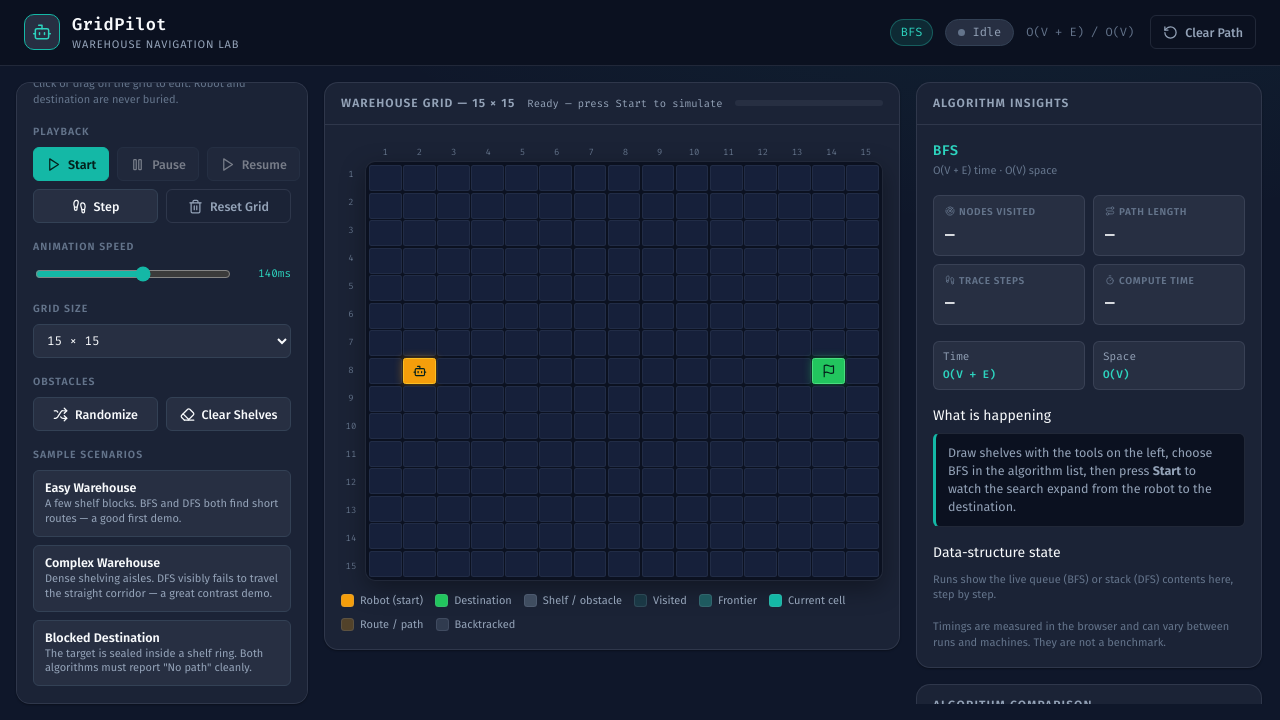
Test case: obstacle generation & lifecycle controls › Blocked Destination produces an explicit No Path result (and never a fake route)
(page scrolled)
Click the button "Blocked Destination": (162, 653) [33, 620, 291, 686]
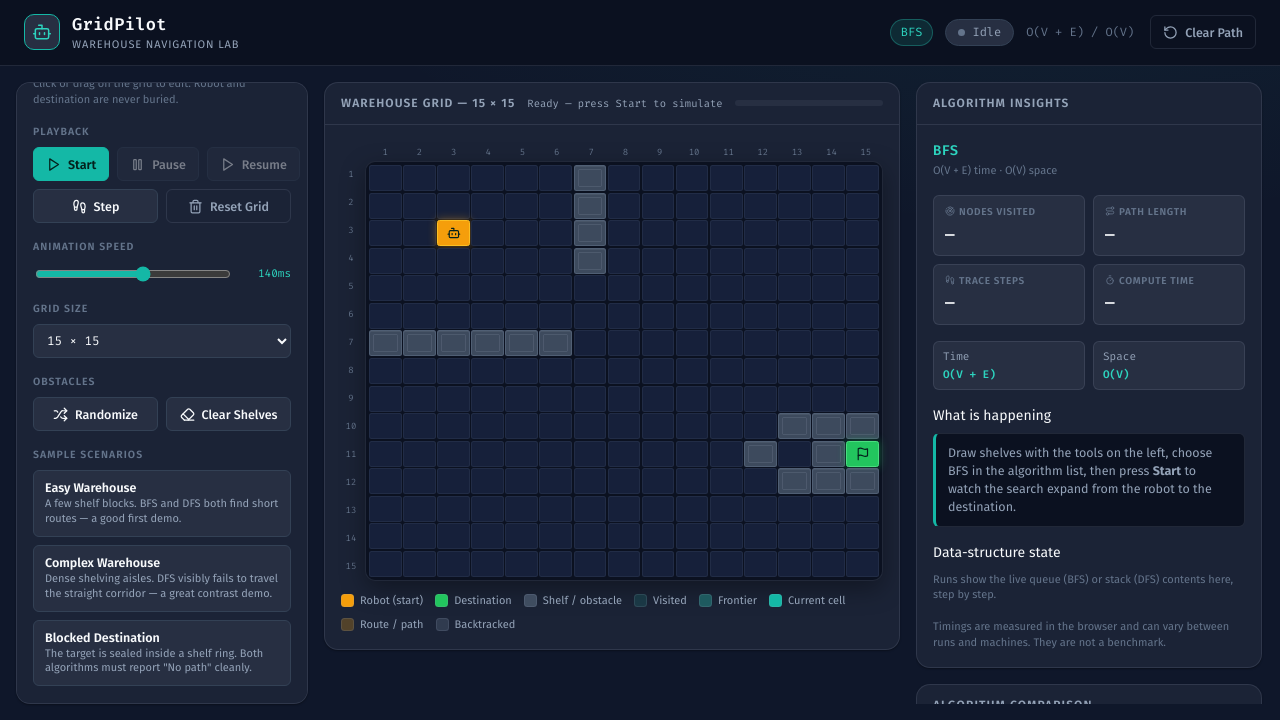
Click the button "Start": (71, 164) [33, 147, 109, 181]
Wait 36400 ms
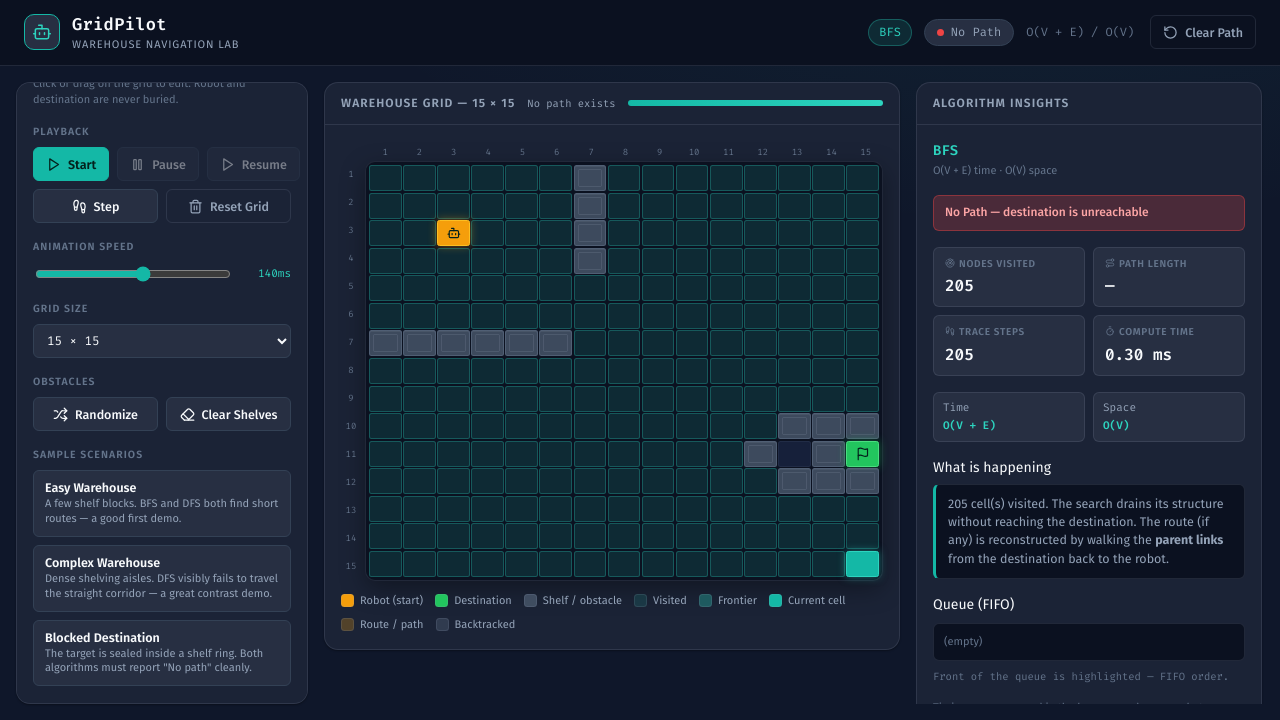
Expected: the text "GridPilot" is shown, [72, 13, 167, 35]
Expected: the text "No Path — destination is unreachable" is shown, [933, 195, 1245, 231]
